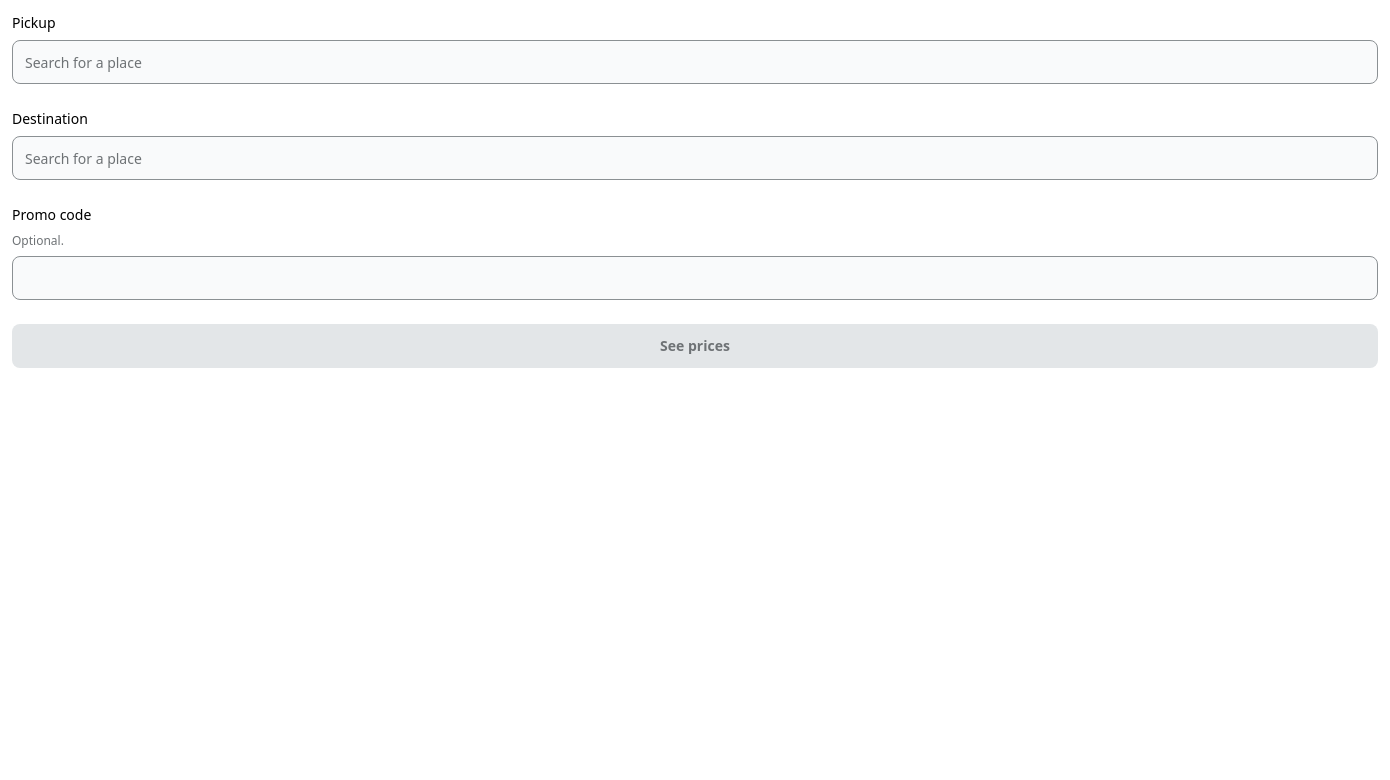
Test case: BookingForm › names the campaign that priced the quote
The width and height of the screenshot is (1390, 780).
Type "dhanmondi" into the dropdown labelled "Pickup" at (695, 62), box [12, 40, 1378, 84]
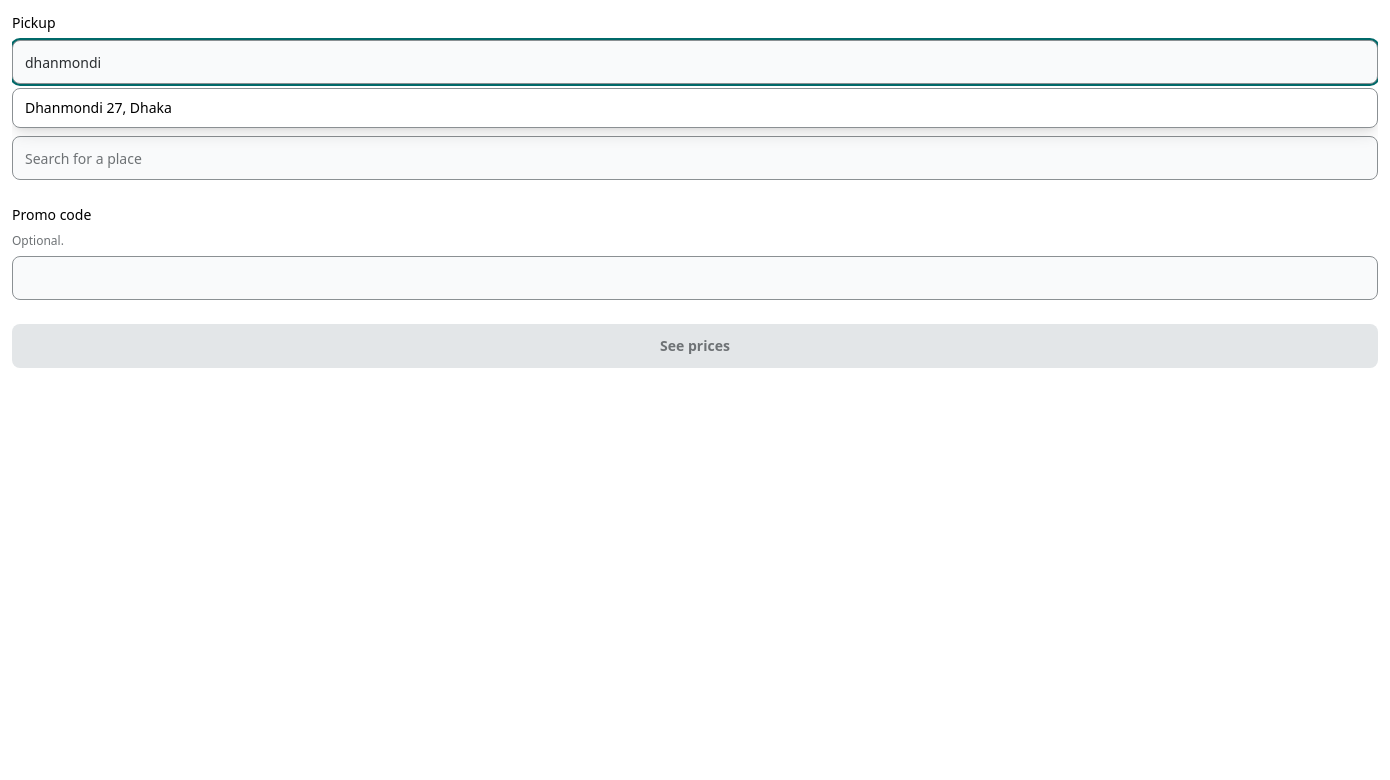
Click the option "Dhanmondi 27, Dhaka" at (98, 108), box [13, 89, 1377, 127]
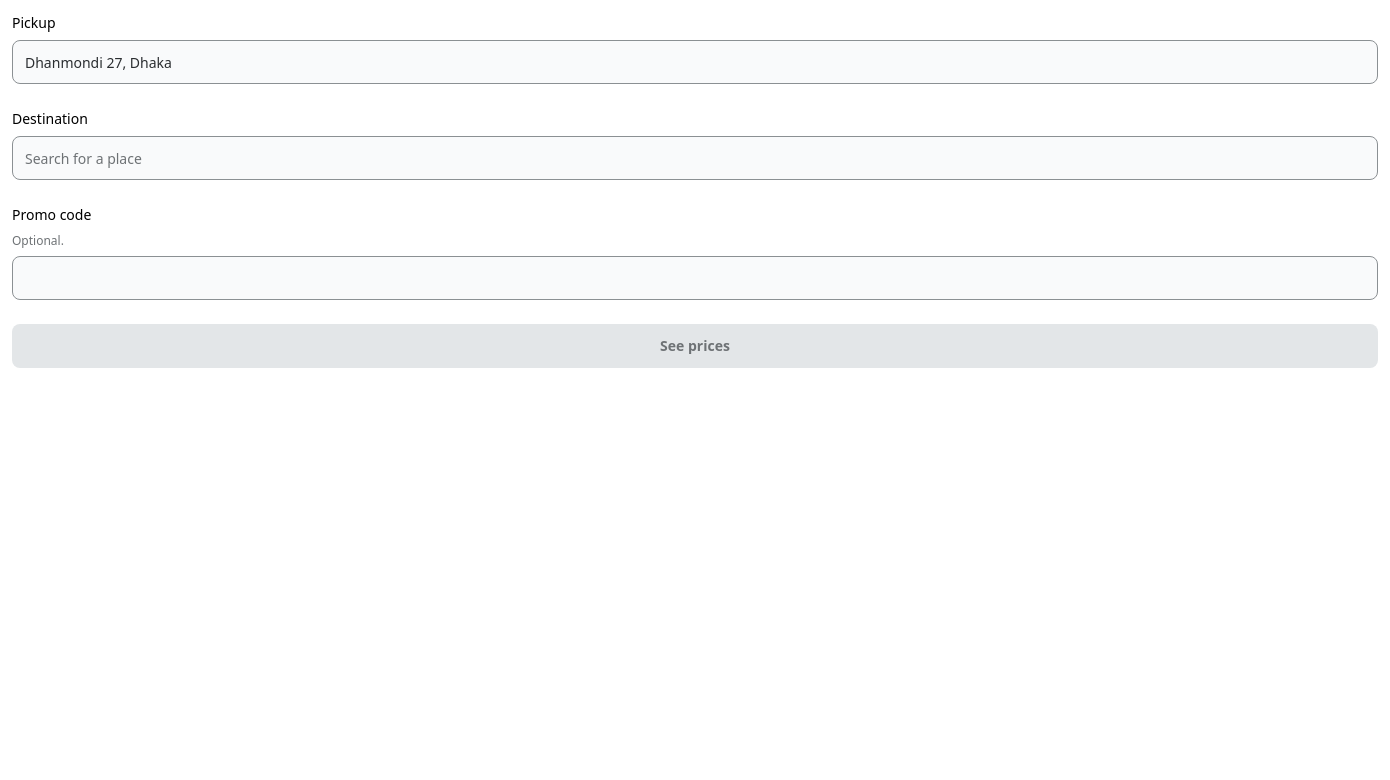
Type "banani" into the dropdown labelled "Destination" at (695, 158), box [12, 136, 1378, 180]
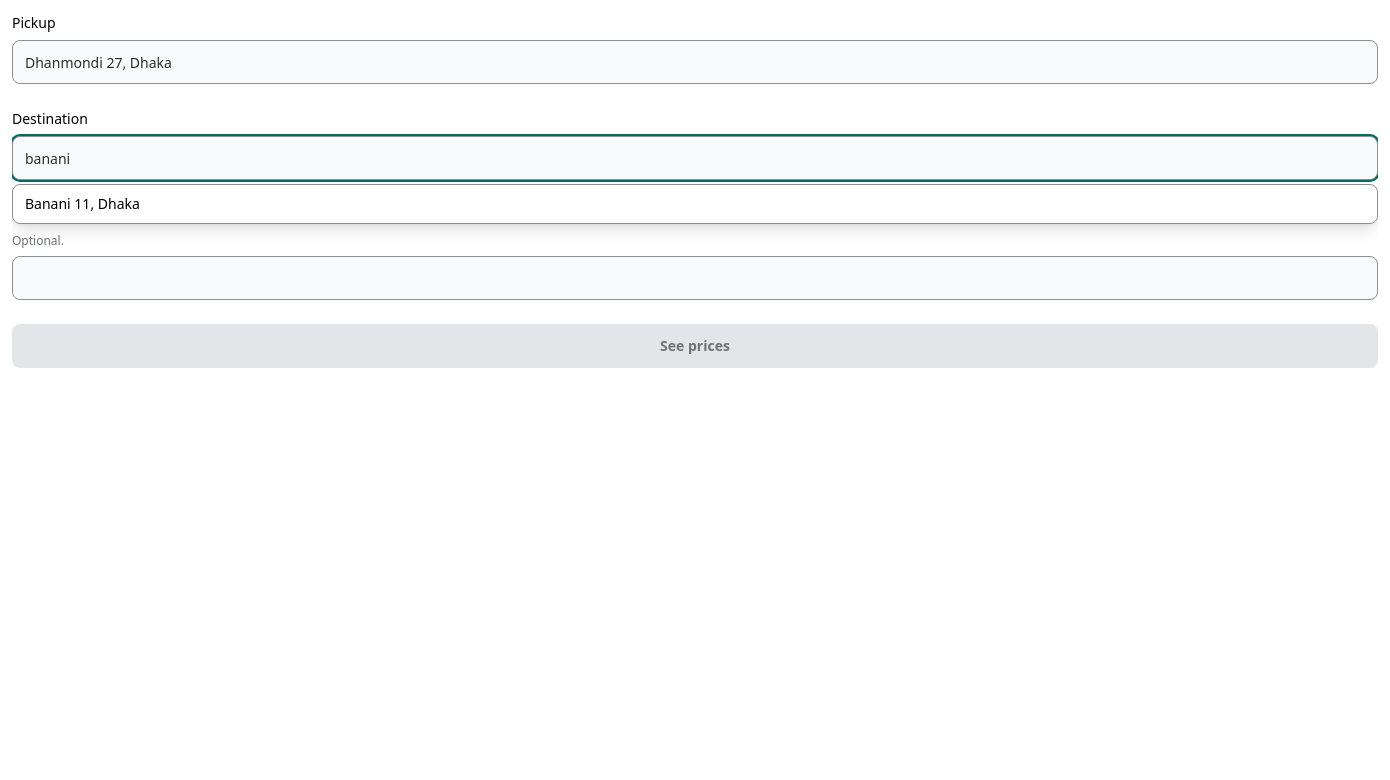
Click the option "Banani 11, Dhaka" at (82, 204), box [13, 185, 1377, 223]
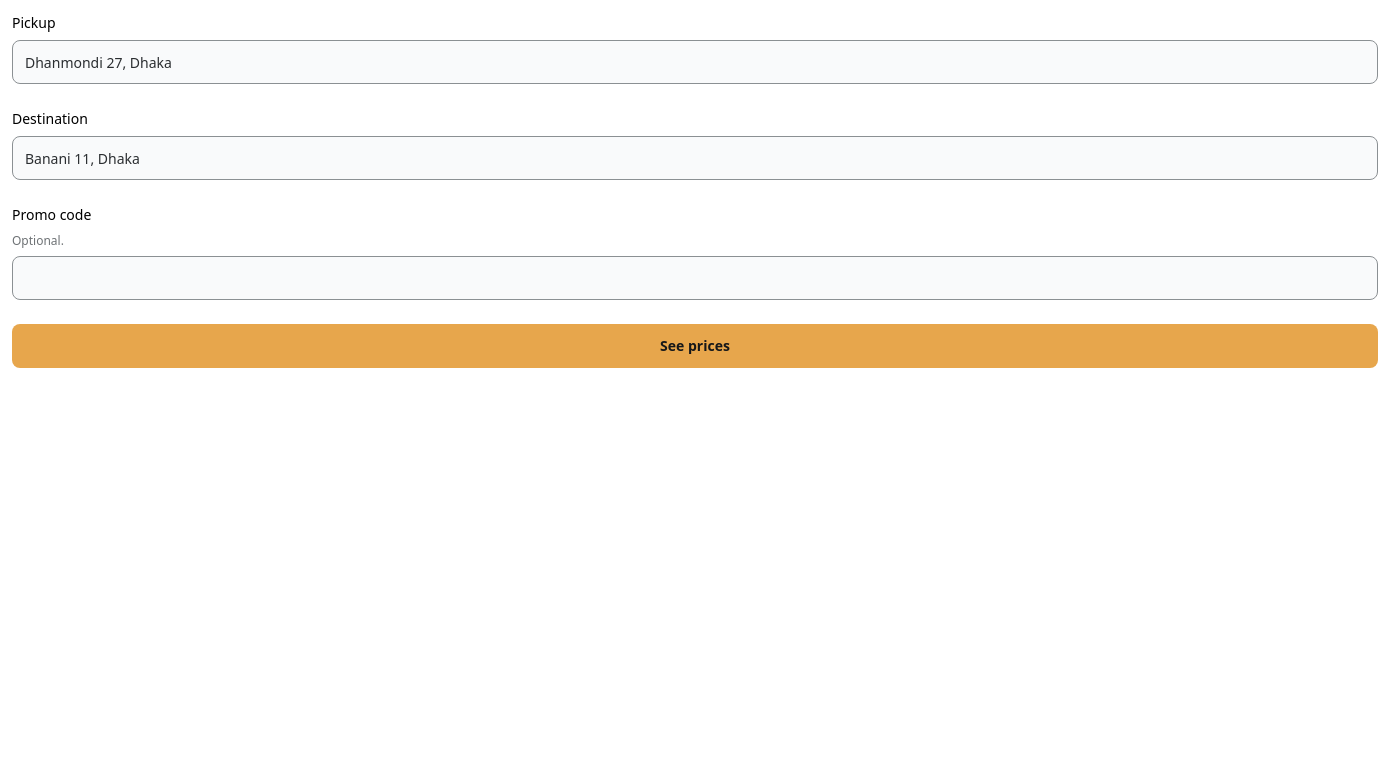
Click the button "See prices" at (695, 346), box [12, 324, 1378, 368]
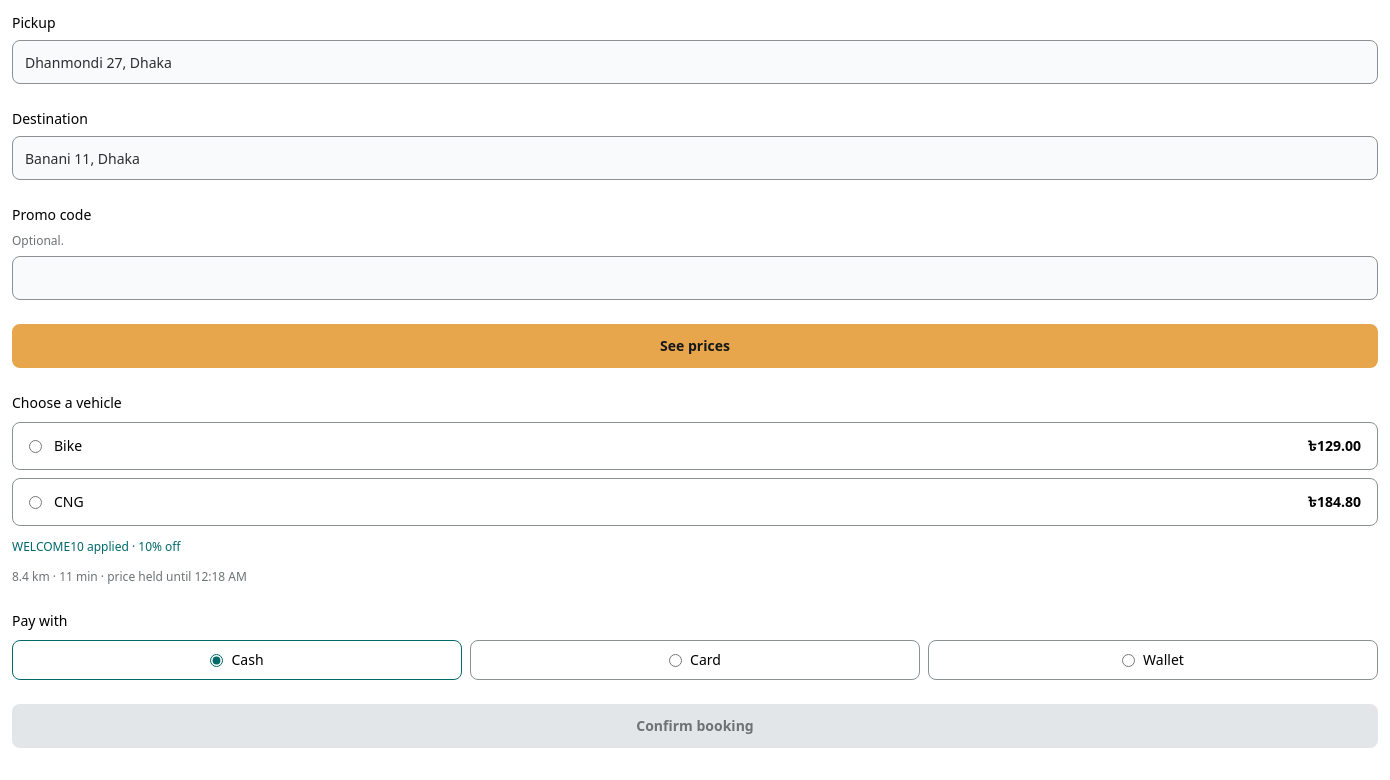
Check: the text "WELCOME10 applied · 10% off" is shown, box [12, 538, 181, 555]
